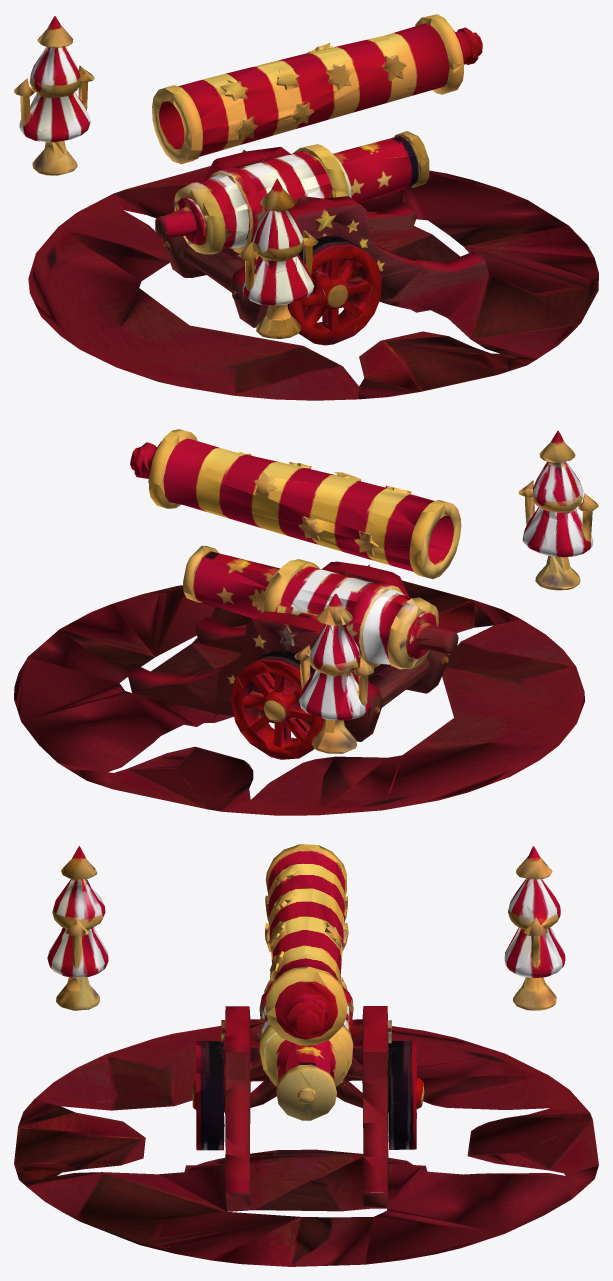
File: Canon.fbx
3 renders of one model, top to bottom at view 1: azimuth 30°, elevation 25°; view 2: azimuth 150°, elevation 25°; view 3: azimuth 270°, elevation 25°, orthographic. The views are drawn at different scales.
Parts seen in each view (by area): view 1: Mesh_0; view 2: Mesh_0; view 3: Mesh_0.
Part boxes in pixels (<box>): Mesh_0: <box>14,14,598,400</box>; Mesh_0: <box>14,429,598,815</box>; Mesh_0: <box>14,844,598,1266</box>.
Bounding box in the file's own units: 189 × 90.71 × 189.
1 material, 1 textured.
